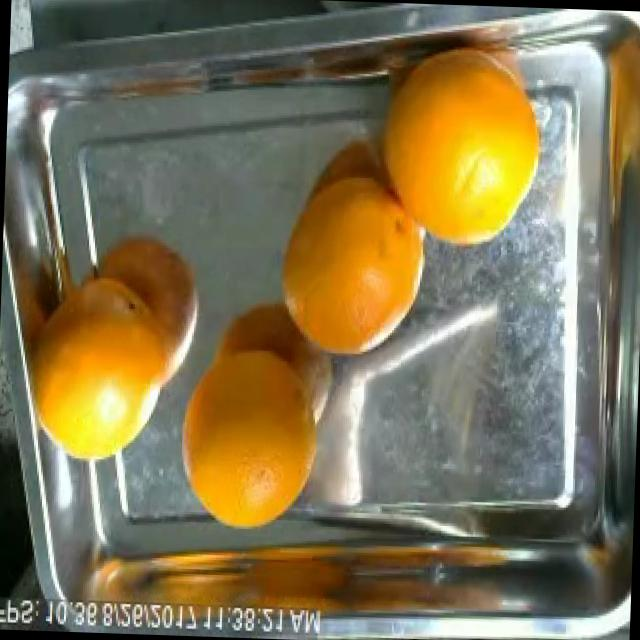Fruit: (158, 334, 337, 548), (67, 212, 222, 398)
